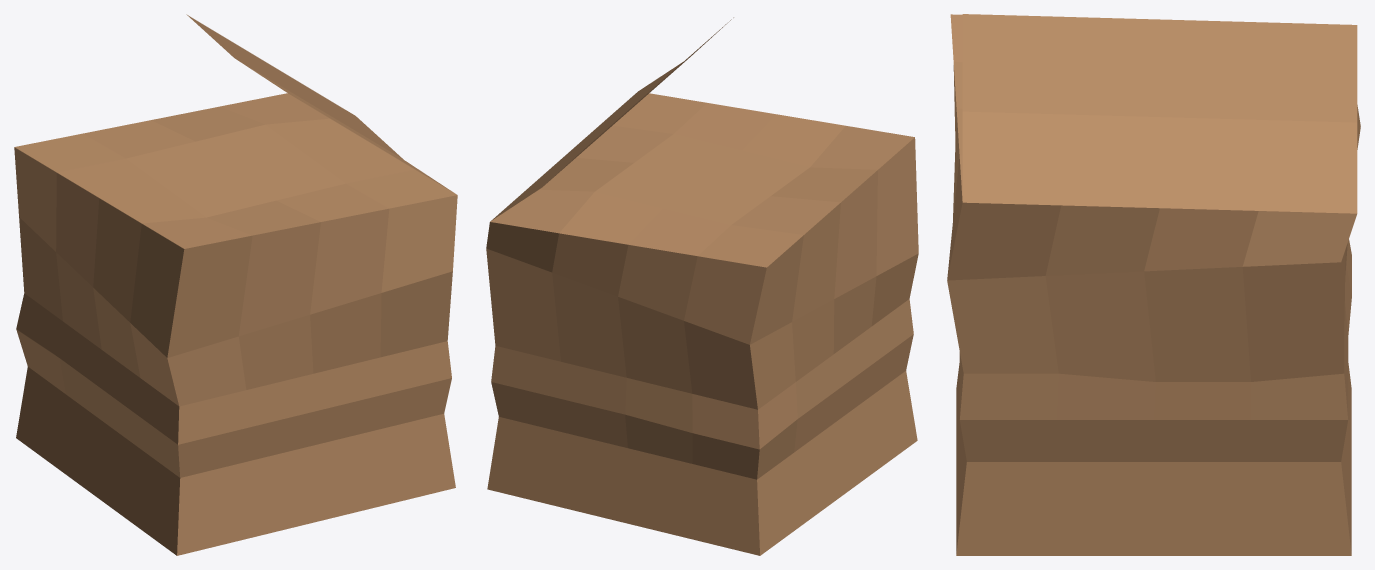
3 views of the same model, side by side, from view 1: azimuth 30°, elevation 25°; view 2: azimuth 150°, elevation 25°; view 3: azimuth 270°, elevation 25° (orthographic). The views are drawn at different scales.
Visible parts, largest first — view 1: Cube.009; view 2: Cube.009; view 3: Cube.009.
Part boxes in pixels (x1,y1,x2,y2): Cube.009: (14, 14, 457, 555); Cube.009: (486, 17, 918, 555); Cube.009: (947, 14, 1360, 555).
Bounding box in the file's own units: 0.6352 × 0.8251 × 0.6398.
